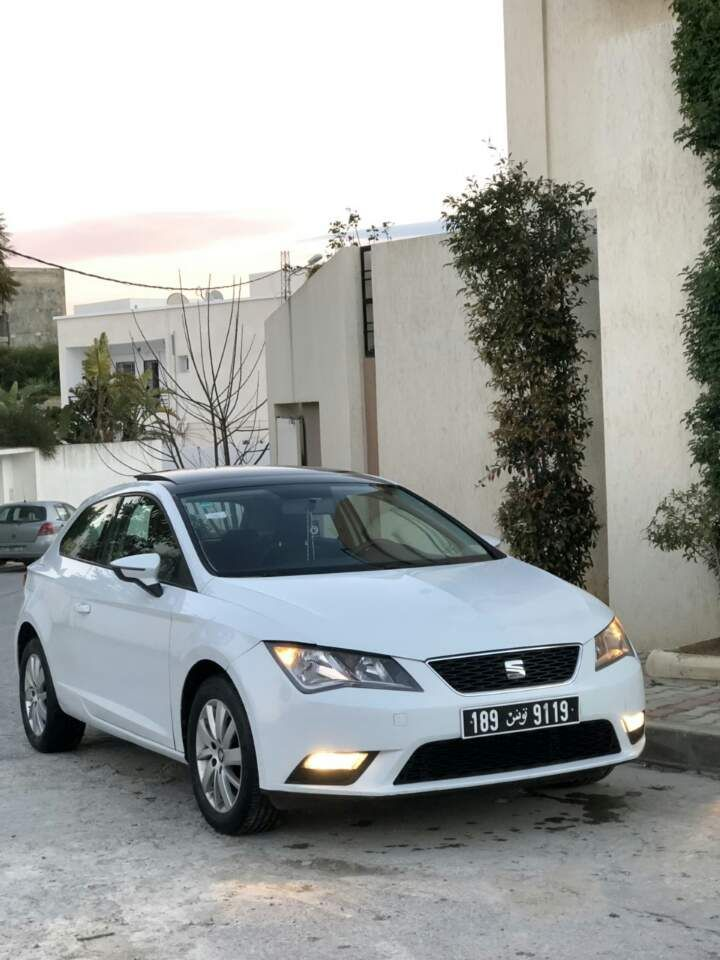LP: (460, 695, 581, 738)
